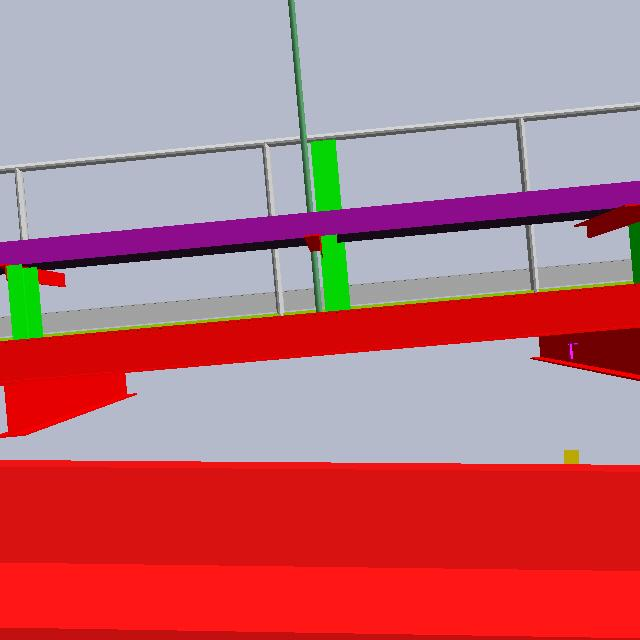Poste: (287, 1, 326, 325)
Soporte: (306, 132, 355, 333)
